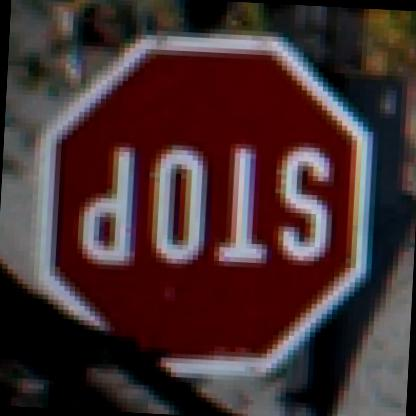stop: (19, 22, 384, 382)
